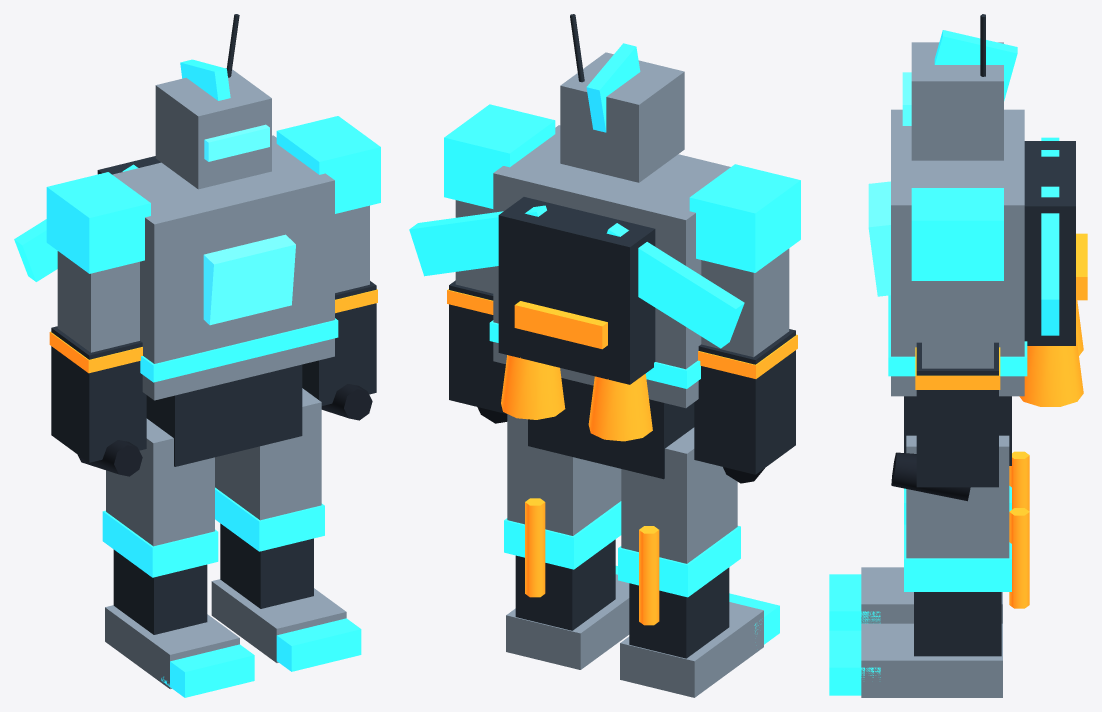
File: mecha-runner.glb
3 renders of one model, left to right at view 1: azimuth 30°, elevation 25°; view 2: azimuth 150°, elevation 25°; view 3: azimuth 270°, elevation 25°, orthographic. The views are drawn at different scales.
Parts seen in each view (by area): view 1: torso, armL, legL, legR, armR, head, pelvis, chestCore, torsoStripe, wingL, visor; view 2: legL, armL, legR, pack, torso, armR, head, pelvis, wingL, wingR, nozzleL, nozzleR (+1 smaller); view 3: legR, armR, torso, head, pack, legL, nozzleR, wingR, chestCore, torsoStripe, pelvis, visor.
Boxes of the visible parts, x1=… form: torso: x1=112, y1=135, x2=334, y2=400; armL: x1=46, y1=172, x2=150, y2=476; legL: x1=102, y1=418, x2=254, y2=697; legR: x1=211, y1=388, x2=361, y2=671; armR: x1=276, y1=116, x2=380, y2=420; head: x1=155, y1=14, x2=271, y2=189; pelvis: x1=146, y1=364, x2=302, y2=466; chestCore: x1=203, y1=234, x2=295, y2=325; torsoStripe: x1=140, y1=318, x2=338, y2=382; wingL: x1=14, y1=164, x2=138, y2=281; visor: x1=204, y1=124, x2=269, y2=161; legL: x1=618, y1=427, x2=779, y2=697; armL: x1=689, y1=164, x2=800, y2=483; legR: x1=504, y1=414, x2=629, y2=669; pack: x1=498, y1=197, x2=655, y2=384; torso: x1=493, y1=125, x2=730, y2=408; armR: x1=444, y1=104, x2=555, y2=423; head: x1=560, y1=14, x2=684, y2=182; pelvis: x1=528, y1=378, x2=694, y2=479; wingL: x1=606, y1=223, x2=744, y2=348; wingR: x1=409, y1=205, x2=546, y2=276; nozzleL: x1=588, y1=374, x2=652, y2=441; nozzleR: x1=501, y1=355, x2=565, y2=419; legR: x1=829, y1=435, x2=1029, y2=697; armR: x1=891, y1=188, x2=1003, y2=501; torso: x1=891, y1=109, x2=1024, y2=396; head: x1=911, y1=14, x2=1017, y2=160; pack: x1=1024, y1=141, x2=1087, y2=345; legL: x1=829, y1=451, x2=1029, y2=630; nozzleR: x1=1019, y1=335, x2=1083, y2=406; wingR: x1=1041, y1=186, x2=1059, y2=335; chestCore: x1=868, y1=181, x2=890, y2=296; torsoStripe: x1=888, y1=295, x2=1027, y2=376; pelvis: x1=904, y1=396, x2=1011, y2=465; visor: x1=902, y1=72, x2=911, y2=125.
Bounding box in the file's own units: 1.49 × 2.81 × 1.01.
